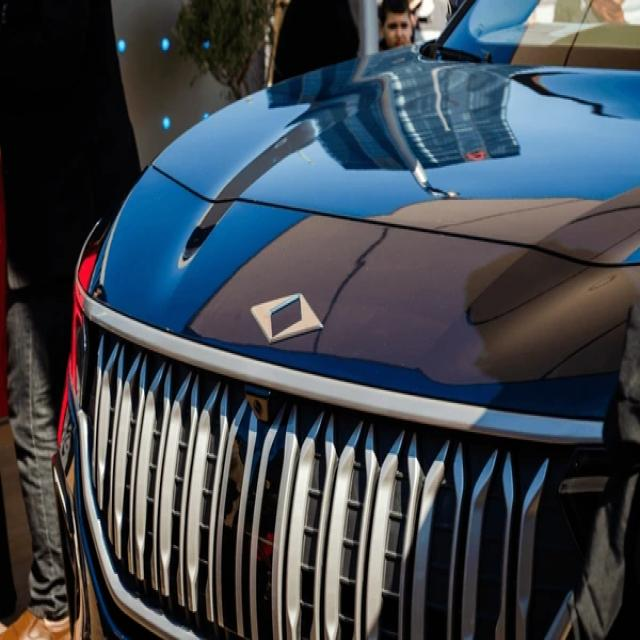togg: (246, 286, 330, 350)
